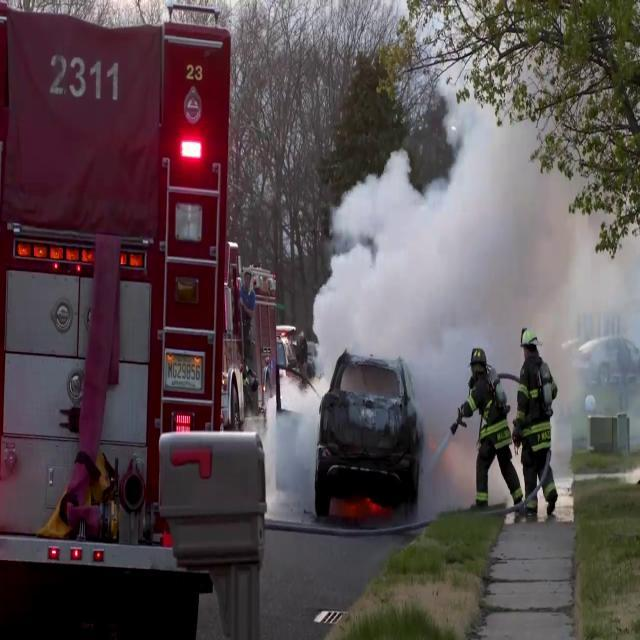Smoke: (300, 61, 638, 412)
